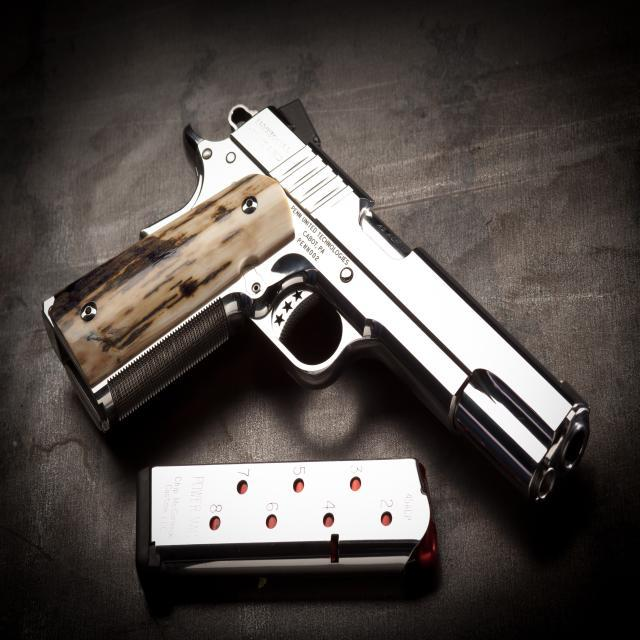Pistol: (36, 82, 609, 601)
